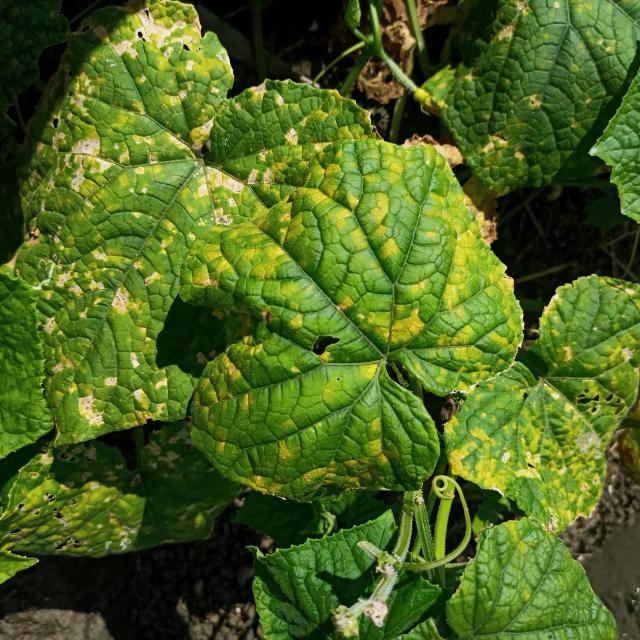disease_cucumber: (193, 144, 517, 496), (16, 9, 254, 414), (459, 295, 640, 525), (24, 421, 218, 547)
